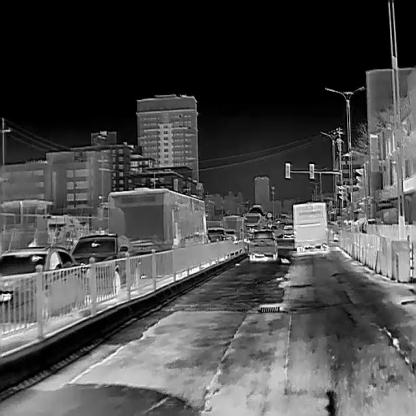bus: (106, 185, 206, 279), (292, 201, 329, 259)
car: (0, 247, 86, 321), (70, 234, 135, 293), (248, 228, 277, 260), (179, 232, 210, 256), (374, 206, 398, 225), (206, 226, 225, 244), (362, 218, 376, 232), (224, 227, 237, 241), (282, 224, 293, 238), (278, 214, 286, 224)
truck: (242, 203, 263, 241), (221, 215, 244, 238)
